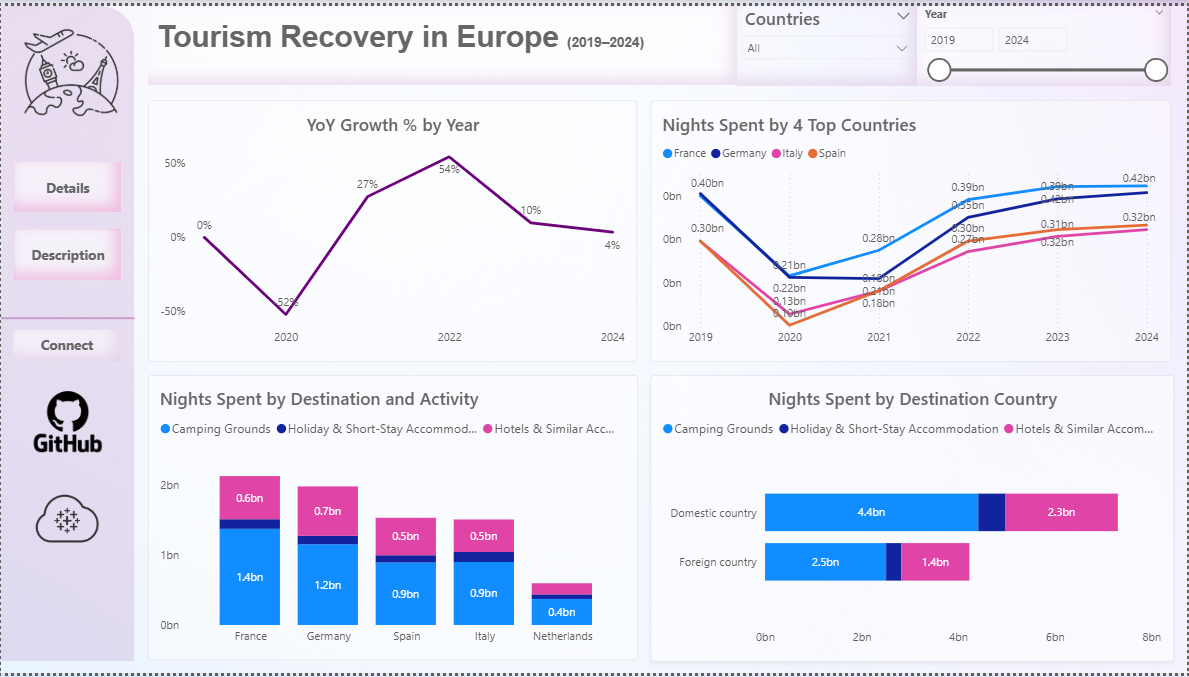

Layout of this report page (visuals, bound fields, positions):
{"tool":"powerbi","page":{"name":"Summary","canvas":[1280,720],"ordinal":0},"visuals":[{"type":"slicer","fields":{"Values":["tour_occ_arnat_linear.Destination_Country"]},"box":[795,0,194.3,85.8],"z":0},{"type":"textbox","box":[158,0,635.9,85.1],"z":1000},{"type":"shape","box":[0,0,144.1,707.6],"z":2000},{"type":"image","box":[0,0,157.2,148.8],"z":3000},{"type":"image","box":[6,385.1,130.8,127.2],"z":4000},{"type":"image","box":[7.2,500.2,129.6,105.6],"z":5000},{"type":"textbox","box":[13.2,350.3,116.4,34.8],"z":6000},{"type":"shape","box":[0,323.9,144,26.4],"z":7000},{"type":"actionButton","box":[14.2,241,115.4,54.7],"z":8000},{"type":"actionButton","box":[14.2,168.1,115,54],"z":9000},{"type":"slicer","fields":{"Values":["tour_occ_arnat_linear.Year"]},"box":[989.3,0,273.6,85.8],"z":10000},{"type":"barChart","title":"Nights Spent by Destination Country","fields":{"Category":["tour_occ_arnat_linear.Origin_Country"],"Y":["tour_occ_arnat_linear.Total Nights"],"Series":["tour_occ_arnat_linear.Activity Group"]},"box":[701.1,398.3,565.1,309.3],"z":11000},{"type":"lineChart","fields":{"Category":["tour_occ_arnat_linear.Year"],"Y":["tour_occ_arnat_linear.YoY Growth %"]},"box":[158.7,102,527.9,281.7],"z":12000},{"type":"lineChart","title":"Nights Spent by 4 Top Countries","fields":{"Y":["tour_occ_arnat_linear.Total Nights"],"Series":["tour_occ_arnat_linear.Destination_Country"],"Category":["tour_occ_arnat_linear.Year"]},"box":[701.1,102,561.9,281.7],"z":13000},{"type":"columnChart","title":"Nights Spent by Destination and Activity","fields":{"Category":["tour_occ_arnat_linear.Destination_Country"],"Y":["tour_occ_arnat_linear.Total Nights"],"Series":["tour_occ_arnat_linear.Activity Group"]},"box":[158,399,528.6,307.8],"z":14000}]}

Visuals, with their boxes on the page's 1280x720 design canvas (x1, y1, x2, y2). These are canvas units, not pixel positions in the 1189x677 screenshot, which may show the page scaled, cropped or inside an application window:
slicer - tour_occ_arnat_linear.Destination_Country: pyautogui.locateOnScreen(795, 0, 989, 86)
textbox: pyautogui.locateOnScreen(158, 0, 794, 85)
shape: pyautogui.locateOnScreen(0, 0, 144, 708)
image: pyautogui.locateOnScreen(0, 0, 157, 149)
image: pyautogui.locateOnScreen(6, 385, 137, 512)
image: pyautogui.locateOnScreen(7, 500, 137, 606)
textbox: pyautogui.locateOnScreen(13, 350, 130, 385)
shape: pyautogui.locateOnScreen(0, 324, 144, 350)
actionButton: pyautogui.locateOnScreen(14, 241, 130, 296)
actionButton: pyautogui.locateOnScreen(14, 168, 129, 222)
slicer - tour_occ_arnat_linear.Year: pyautogui.locateOnScreen(989, 0, 1263, 86)
"Nights Spent by Destination Country" barChart: pyautogui.locateOnScreen(701, 398, 1266, 708)
lineChart - tour_occ_arnat_linear.Year x tour_occ_arnat_linear.YoY Growth %: pyautogui.locateOnScreen(159, 102, 687, 384)
"Nights Spent by 4 Top Countries" lineChart: pyautogui.locateOnScreen(701, 102, 1263, 384)
"Nights Spent by Destination and Activity" columnChart: pyautogui.locateOnScreen(158, 399, 687, 707)
